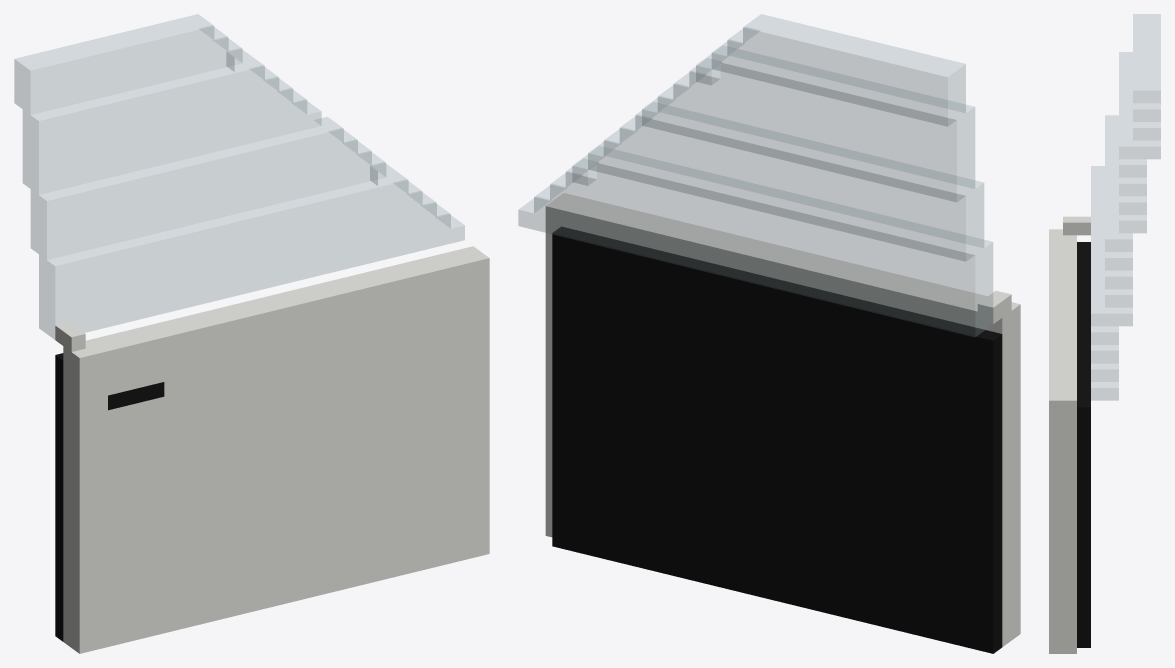
File: crew_pickup_front_door.glb
3 views of the same model, side by side, from view 1: azimuth 30°, elevation 25°; view 2: azimuth 150°, elevation 25°; view 3: azimuth 270°, elevation 25° (orthographic). The views are drawn at different scales.
Parts seen in each view (by area): view 1: body:compound; view 2: body:compound; view 3: body:compound.
Part boxes in pixels (x1,y1,x2,y2): body:compound: [14, 14, 489, 653]; body:compound: [518, 14, 1020, 653]; body:compound: [1049, 14, 1160, 653].
Size of the model in its own units: 0.9062 by 1.16 by 0.25.
